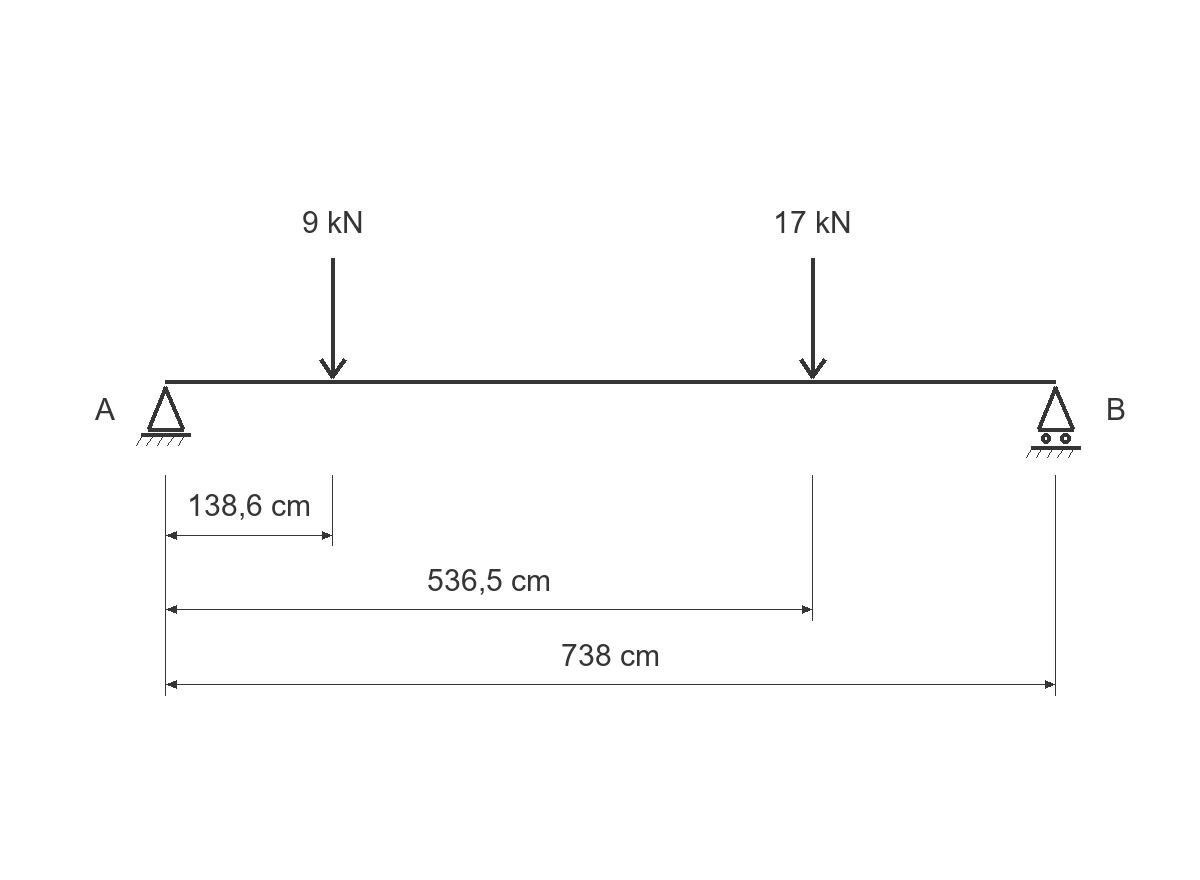pin_support: (136, 386, 191, 446)
point_load: (319, 258, 347, 379), (799, 258, 827, 379)
roller_support: (1026, 386, 1081, 458)
